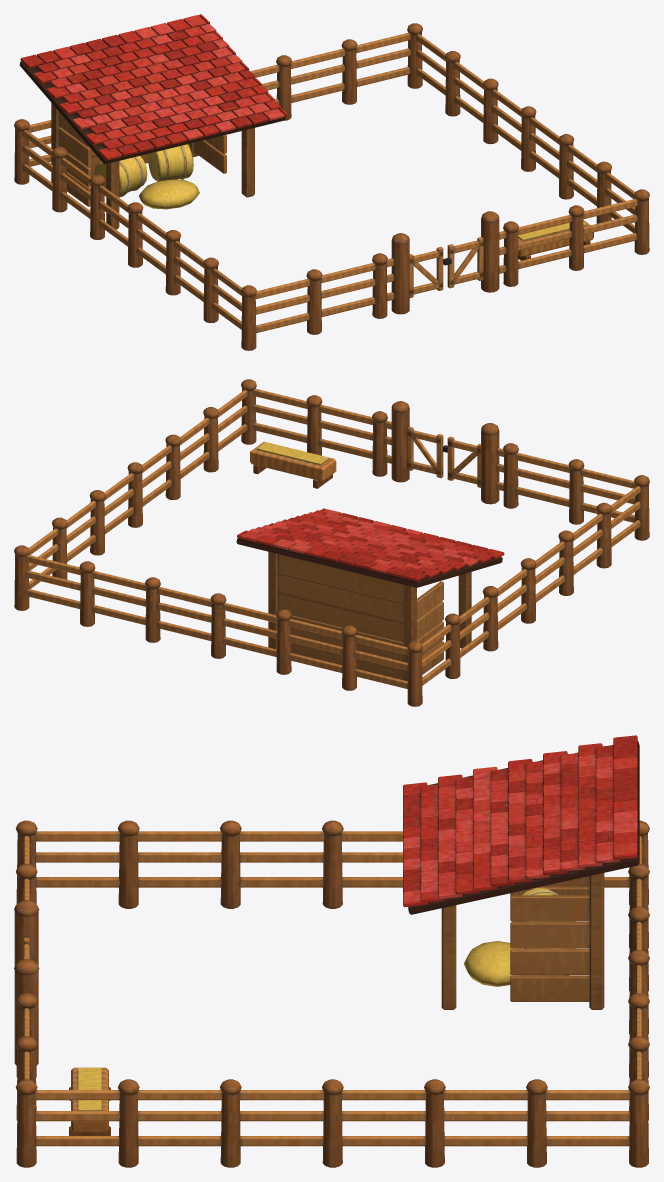
The model's file is vicuna_ranch.glb.
3 renders of one model, top to bottom at view 1: azimuth 30°, elevation 25°; view 2: azimuth 150°, elevation 25°; view 3: azimuth 270°, elevation 25°, orthographic. The views are drawn at different scales.
Parts seen in each view (by area): view 1: vicuna_ranch; view 2: vicuna_ranch; view 3: vicuna_ranch.
Boxes of the visible parts, <box> form: vicuna_ranch: <box>14,14,649,350</box>; vicuna_ranch: <box>14,379,649,706</box>; vicuna_ranch: <box>14,735,649,1167</box>.
Bounding box in the file's own units: 3 × 0.9345 × 3.01.
1 material, 1 textured.
